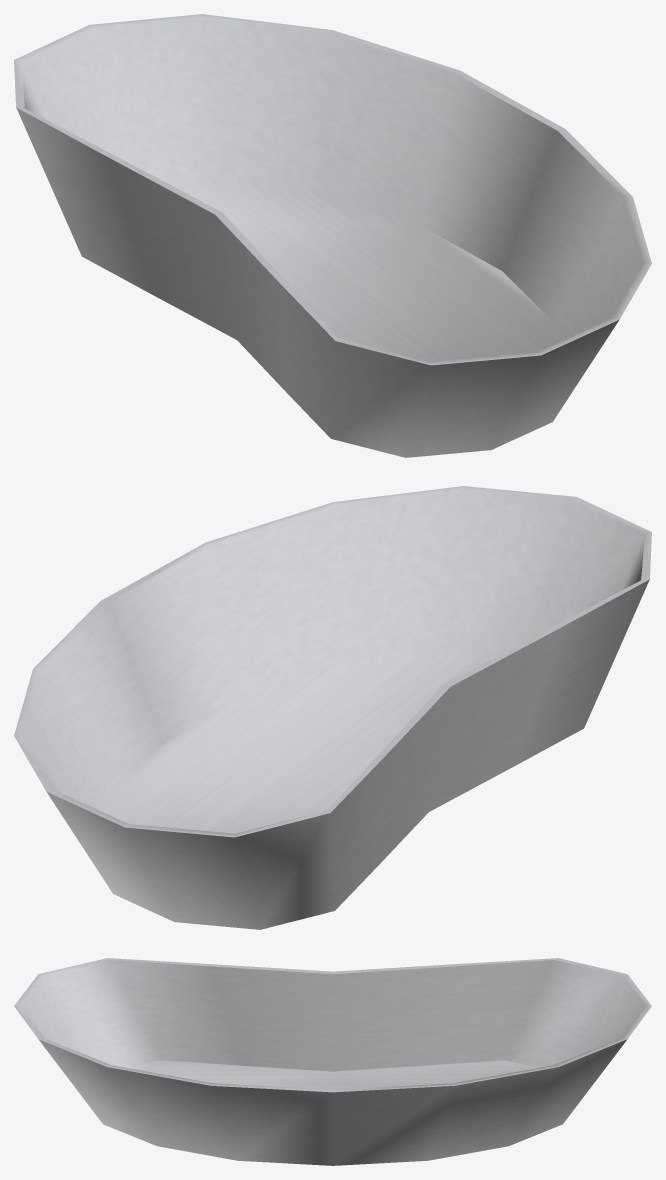
File: t2_kidney_dish.glb
The picture shows the model from 3 angles, top to bottom: view 1: azimuth 30°, elevation 25°; view 2: azimuth 150°, elevation 25°; view 3: azimuth 270°, elevation 25°; orthographic projection. The views are drawn at different scales.
Visible parts, largest first — view 1: t2_kidney_dish; view 2: t2_kidney_dish; view 3: t2_kidney_dish.
Part boxes in pixels (left/top/right/bottom): t2_kidney_dish: left=14, top=14, right=651, bottom=457; t2_kidney_dish: left=14, top=486, right=651, bottom=929; t2_kidney_dish: left=14, top=958, right=651, bottom=1165.
Size of the model in its own units: 0.1246 by 0.04 by 0.25.
Materials: 1 (1 with a texture image).
